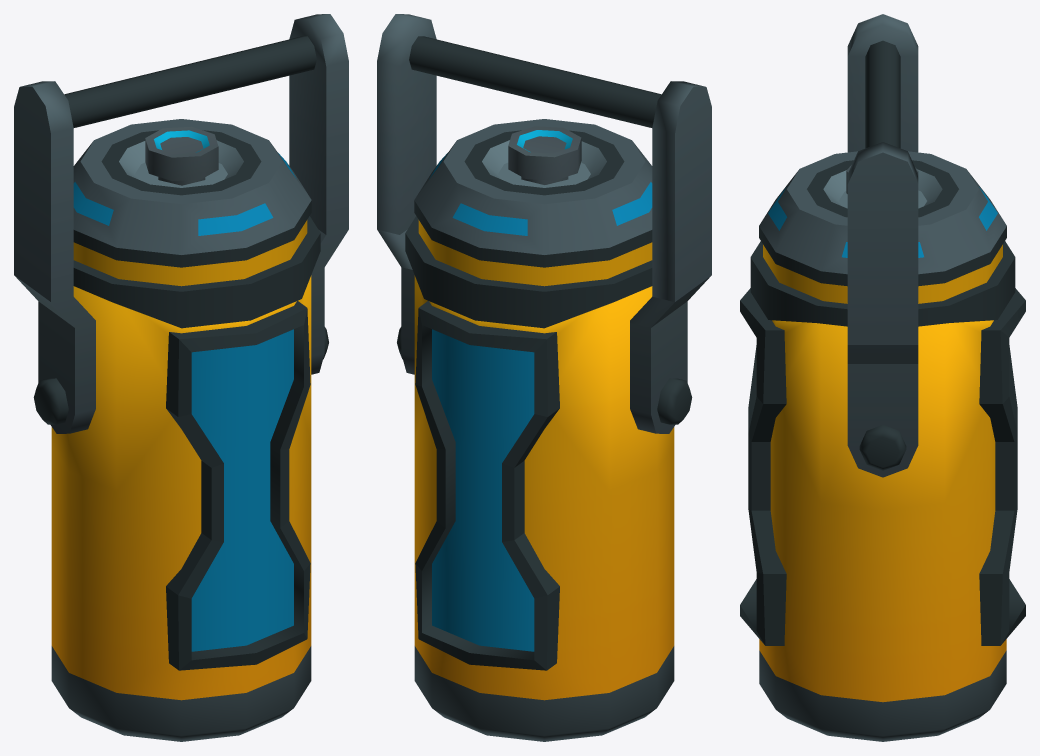
Rendered from Barrel_012.fbx.
3 renders of one model, left to right at view 1: azimuth 30°, elevation 25°; view 2: azimuth 150°, elevation 25°; view 3: azimuth 270°, elevation 25°, orthographic. The views are drawn at different scales.
Visible parts, largest first — view 1: Barrel_012; view 2: Barrel_012; view 3: Barrel_012.
Part boxes in pixels (x1,y1,x2,y2): Barrel_012: (14,14,348,741); Barrel_012: (377,14,711,741); Barrel_012: (740,14,1025,741).
Size of the model in its own units: 57.26 by 49.96 by 118.
